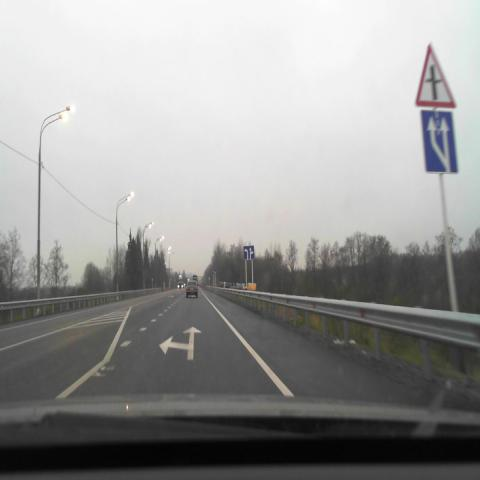5_15_3: (422, 112, 459, 173)
